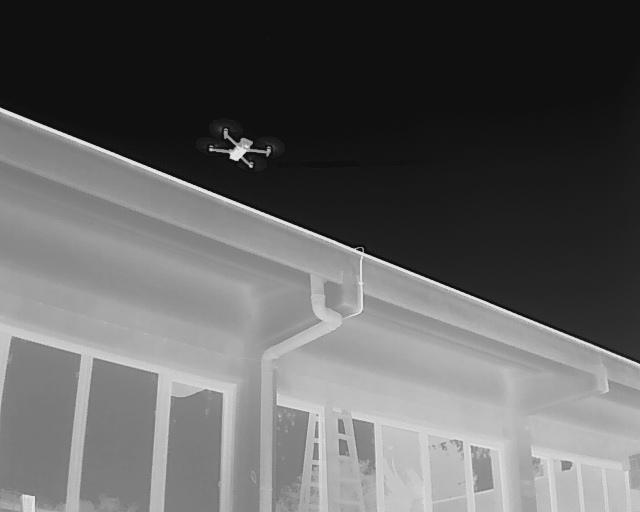drone: (202, 121, 283, 180)
